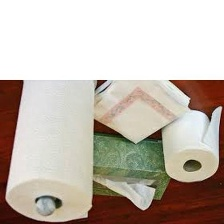book: (79, 130, 176, 204)
tissue: (0, 79, 100, 224), (155, 100, 224, 189), (87, 171, 160, 215)
